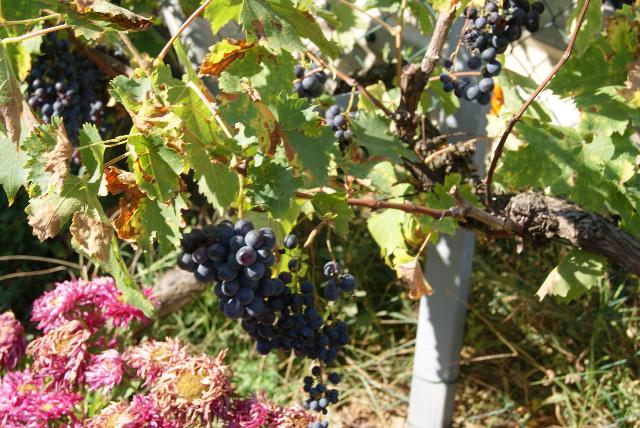grapes: (440, 0, 544, 104), (242, 271, 350, 366), (178, 219, 276, 320), (302, 365, 339, 414), (324, 262, 356, 299)
